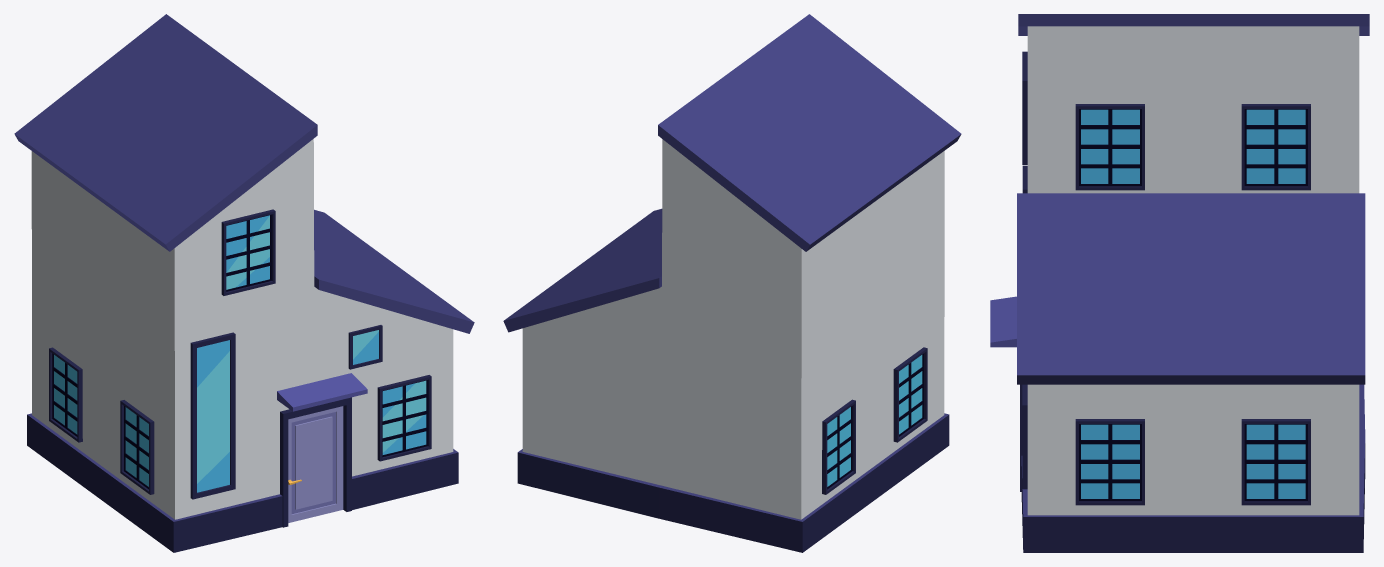
File: Env_ResidentBuilding_02.fbx
3 views of the same model, side by side, from view 1: azimuth 30°, elevation 25°; view 2: azimuth 150°, elevation 25°; view 3: azimuth 270°, elevation 25° (orthographic). The views are drawn at different scales.
Visible parts, largest first — view 1: Env_ResidentBuilding_02; view 2: Env_ResidentBuilding_02; view 3: Env_ResidentBuilding_02.
Part boxes in pixels (bbox=[...]): Env_ResidentBuilding_02: bbox=[14, 14, 474, 552]; Env_ResidentBuilding_02: bbox=[503, 14, 961, 552]; Env_ResidentBuilding_02: bbox=[990, 14, 1369, 552].
Bounding box in the file's own units: 648 × 793 × 595.
